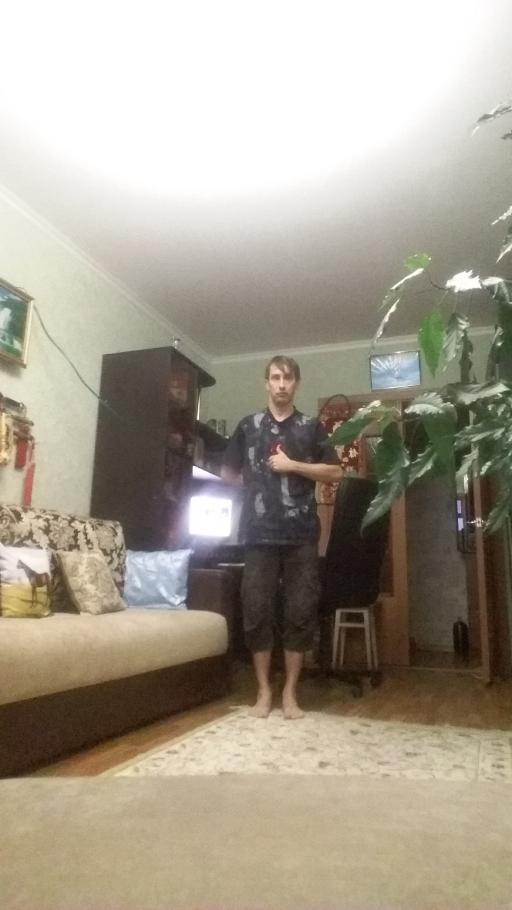like: (263, 442, 297, 475)
